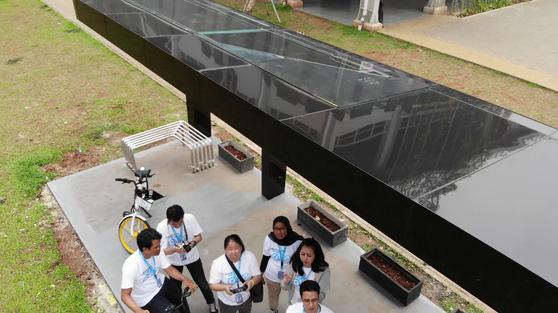bike: (112, 161, 162, 262)
